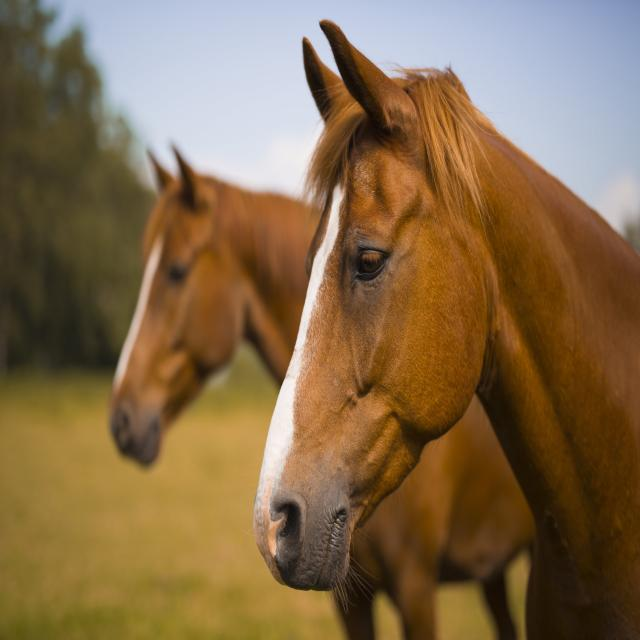Horse: (256, 25, 640, 640), (99, 155, 242, 489)
